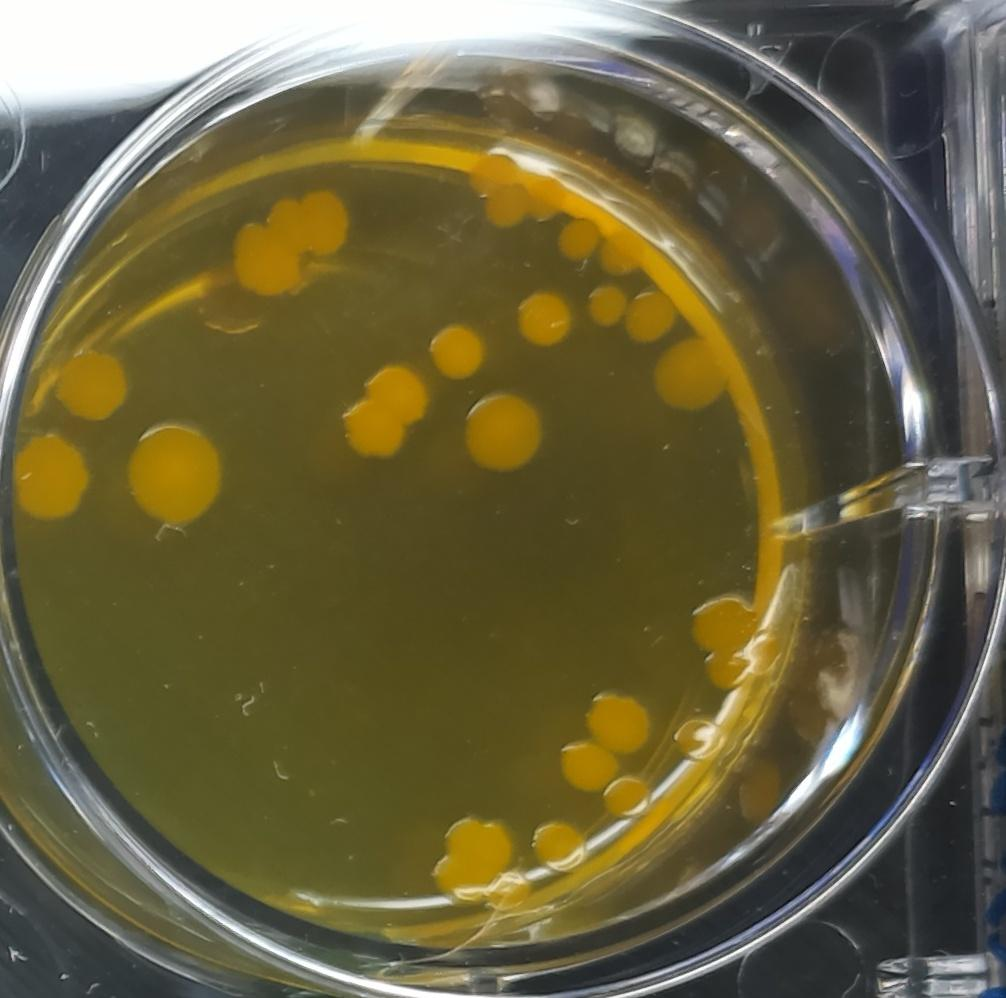vharveyi: (455, 385, 551, 488), (691, 596, 763, 689)
